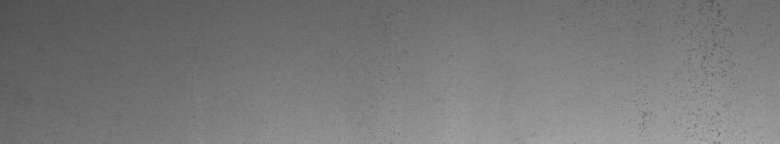ib: (642, 4, 733, 119)
